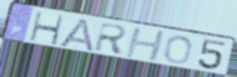5: (198, 38, 229, 71)
A: (55, 17, 96, 53)
H: (123, 27, 167, 63), (28, 10, 65, 47)
O: (163, 35, 195, 66)
R: (92, 21, 130, 56)
